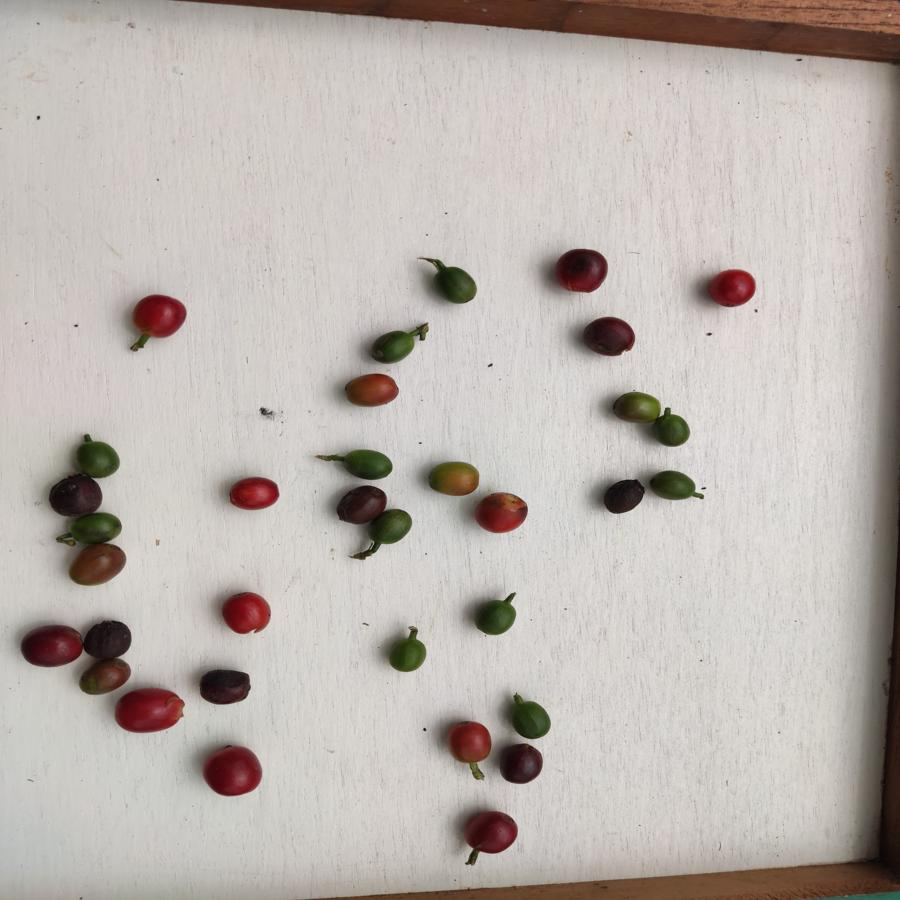Inmaduro: (434, 265, 479, 309), (650, 469, 703, 504), (512, 698, 553, 743), (75, 439, 121, 479), (473, 598, 520, 637), (371, 328, 416, 366), (342, 449, 398, 479), (371, 510, 414, 548), (68, 514, 122, 544), (651, 410, 692, 448), (389, 637, 429, 674)
Maduro: (115, 686, 186, 734), (200, 745, 263, 796), (124, 293, 189, 340), (474, 489, 531, 534), (220, 592, 276, 636), (706, 270, 757, 311), (229, 475, 281, 514), (449, 719, 490, 766)
Pinton: (70, 543, 129, 589), (343, 372, 404, 411), (423, 459, 481, 498), (81, 661, 133, 694), (614, 390, 659, 426)
Sobremaduro: (580, 313, 638, 364), (466, 804, 521, 857), (553, 245, 608, 295), (19, 626, 84, 666), (196, 666, 259, 707), (48, 477, 104, 518), (334, 483, 386, 525), (501, 739, 546, 787), (81, 621, 132, 658), (601, 479, 648, 514)
